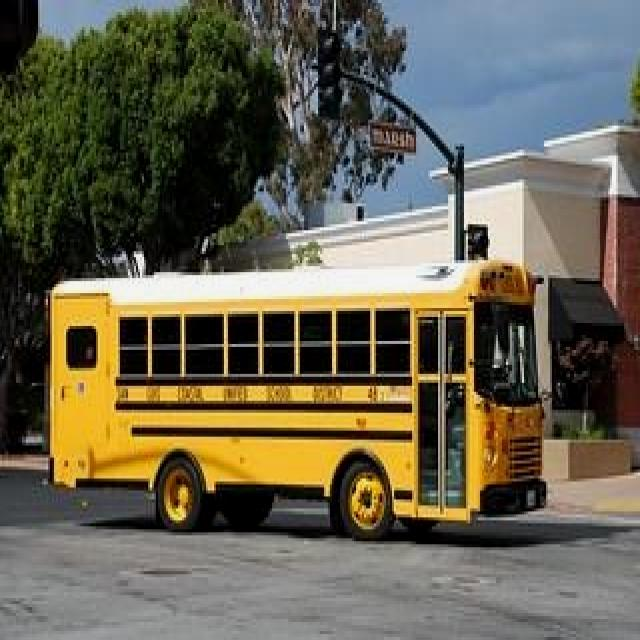Bus: (43, 258, 548, 538)
